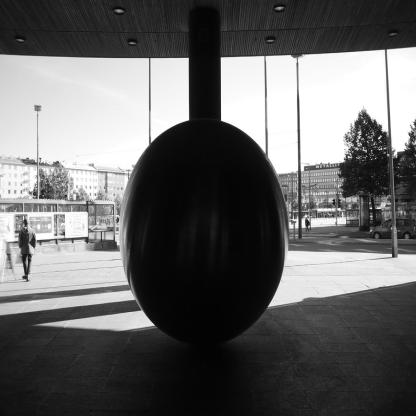Ball: (117, 117, 290, 351)
